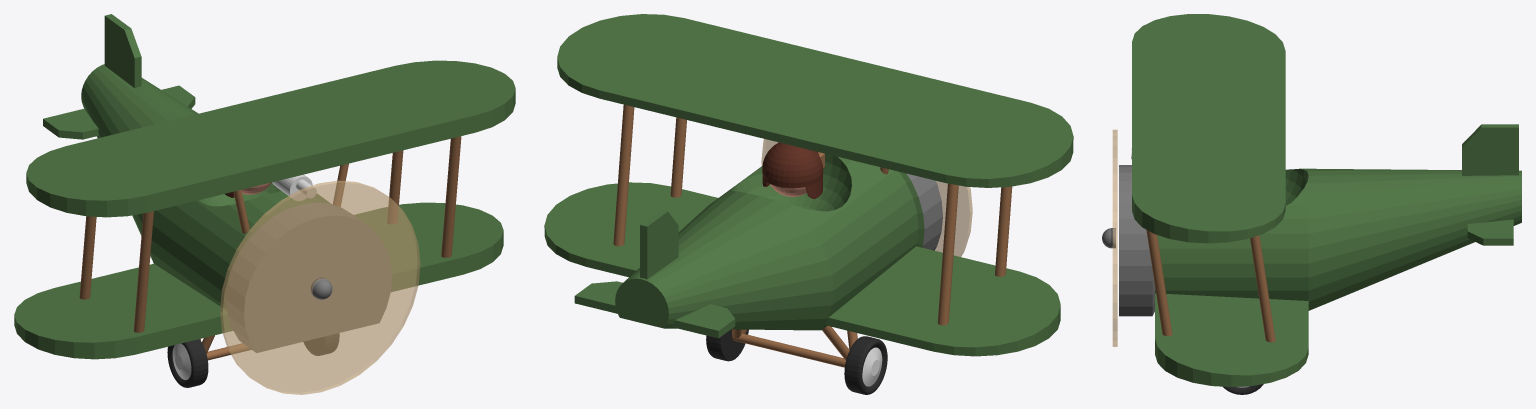
File: sopwith_camel.gltf
3 views of the same model, side by side, from view 1: azimuth 30°, elevation 25°; view 2: azimuth 150°, elevation 25°; view 3: azimuth 270°, elevation 25° (orthographic). The views are drawn at different scales.
Visible parts, largest first — view 1: Upper Wing, Prop, Body, Lower Wing, Forward Strut, Wheels, Tail Vertical, Back Strut, Tail Horizontal, Wing Braces, Gun Barrel; view 2: Upper Wing, Body, Lower Wing, Back Strut, Wheels, Hat, Tail Horizontal, Tail Vertical, Forward Strut, Prop, Wheel Axel, Wheel Struts; view 3: Body, Upper Wing, Lower Wing, Tail Vertical, Prop, Back Strut, Forward Strut, Tail Horizontal.
Boxes of the visible parts, <box> form: Upper Wing: <box>26,60,515,217</box>; Prop: <box>220,180,420,394</box>; Body: <box>81,64,391,352</box>; Lower Wing: <box>14,202,503,359</box>; Forward Strut: <box>133,136,461,332</box>; Wheels: <box>167,333,339,387</box>; Tail Vertical: <box>104,14,141,88</box>; Back Strut: <box>79,150,403,299</box>; Tail Horizontal: <box>43,85,195,139</box>; Wing Braces: <box>233,163,348,233</box>; Gun Barrel: <box>272,174,312,200</box>; Upper Wing: <box>557,14,1073,187</box>; Body: <box>615,153,942,330</box>; Lower Wing: <box>544,182,1060,356</box>; Back Strut: <box>613,104,958,325</box>; Wheels: <box>706,329,887,394</box>; Hat: <box>762,142,823,198</box>; Tail Horizontal: <box>574,281,735,338</box>; Tail Vertical: <box>640,210,678,279</box>; Forward Strut: <box>670,117,1012,276</box>; Prop: <box>761,139,972,256</box>; Wheel Axel: <box>732,333,845,367</box>; Wheel Struts: <box>732,326,857,360</box>; Body: <box>1119,165,1521,316</box>; Upper Wing: <box>1132,14,1285,243</box>; Lower Wing: <box>1155,293,1308,386</box>; Tail Vertical: <box>1462,124,1518,175</box>; Prop: <box>1112,129,1117,346</box>; Back Strut: <box>1250,235,1275,342</box>; Forward Strut: <box>1146,230,1172,336</box>; Tail Horizontal: <box>1467,219,1513,245</box>.
Size of the model in its own units: 6.7 by 3.51 by 5.47.
